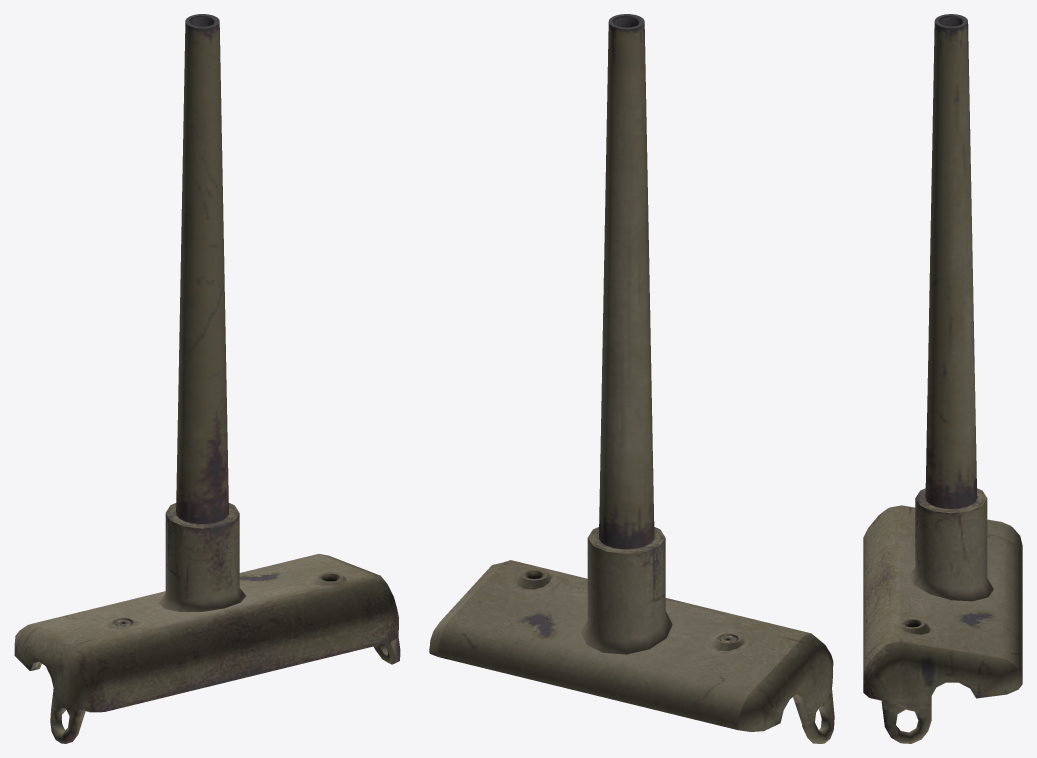
The model's file is Gun_04.glb.
The picture shows the model from 3 angles, left to right: view 1: azimuth 30°, elevation 25°; view 2: azimuth 150°, elevation 25°; view 3: azimuth 270°, elevation 25°; orthographic projection. The views are drawn at different scales.
Visible parts, largest first — view 1: set_0_group_0; view 2: set_0_group_0; view 3: set_0_group_0.
Part boxes in pixels (x1,y1,x2,y2): set_0_group_0: (14, 14, 400, 743); set_0_group_0: (429, 14, 834, 743); set_0_group_0: (863, 14, 1022, 743).
Bounding box in the file's own units: 1.23 × 2.3 × 0.5169.
1 material, 1 textured.
